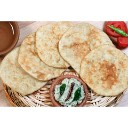poori: (60, 23, 113, 68), (81, 47, 128, 96), (2, 47, 48, 93), (19, 32, 63, 79), (38, 24, 78, 67)
